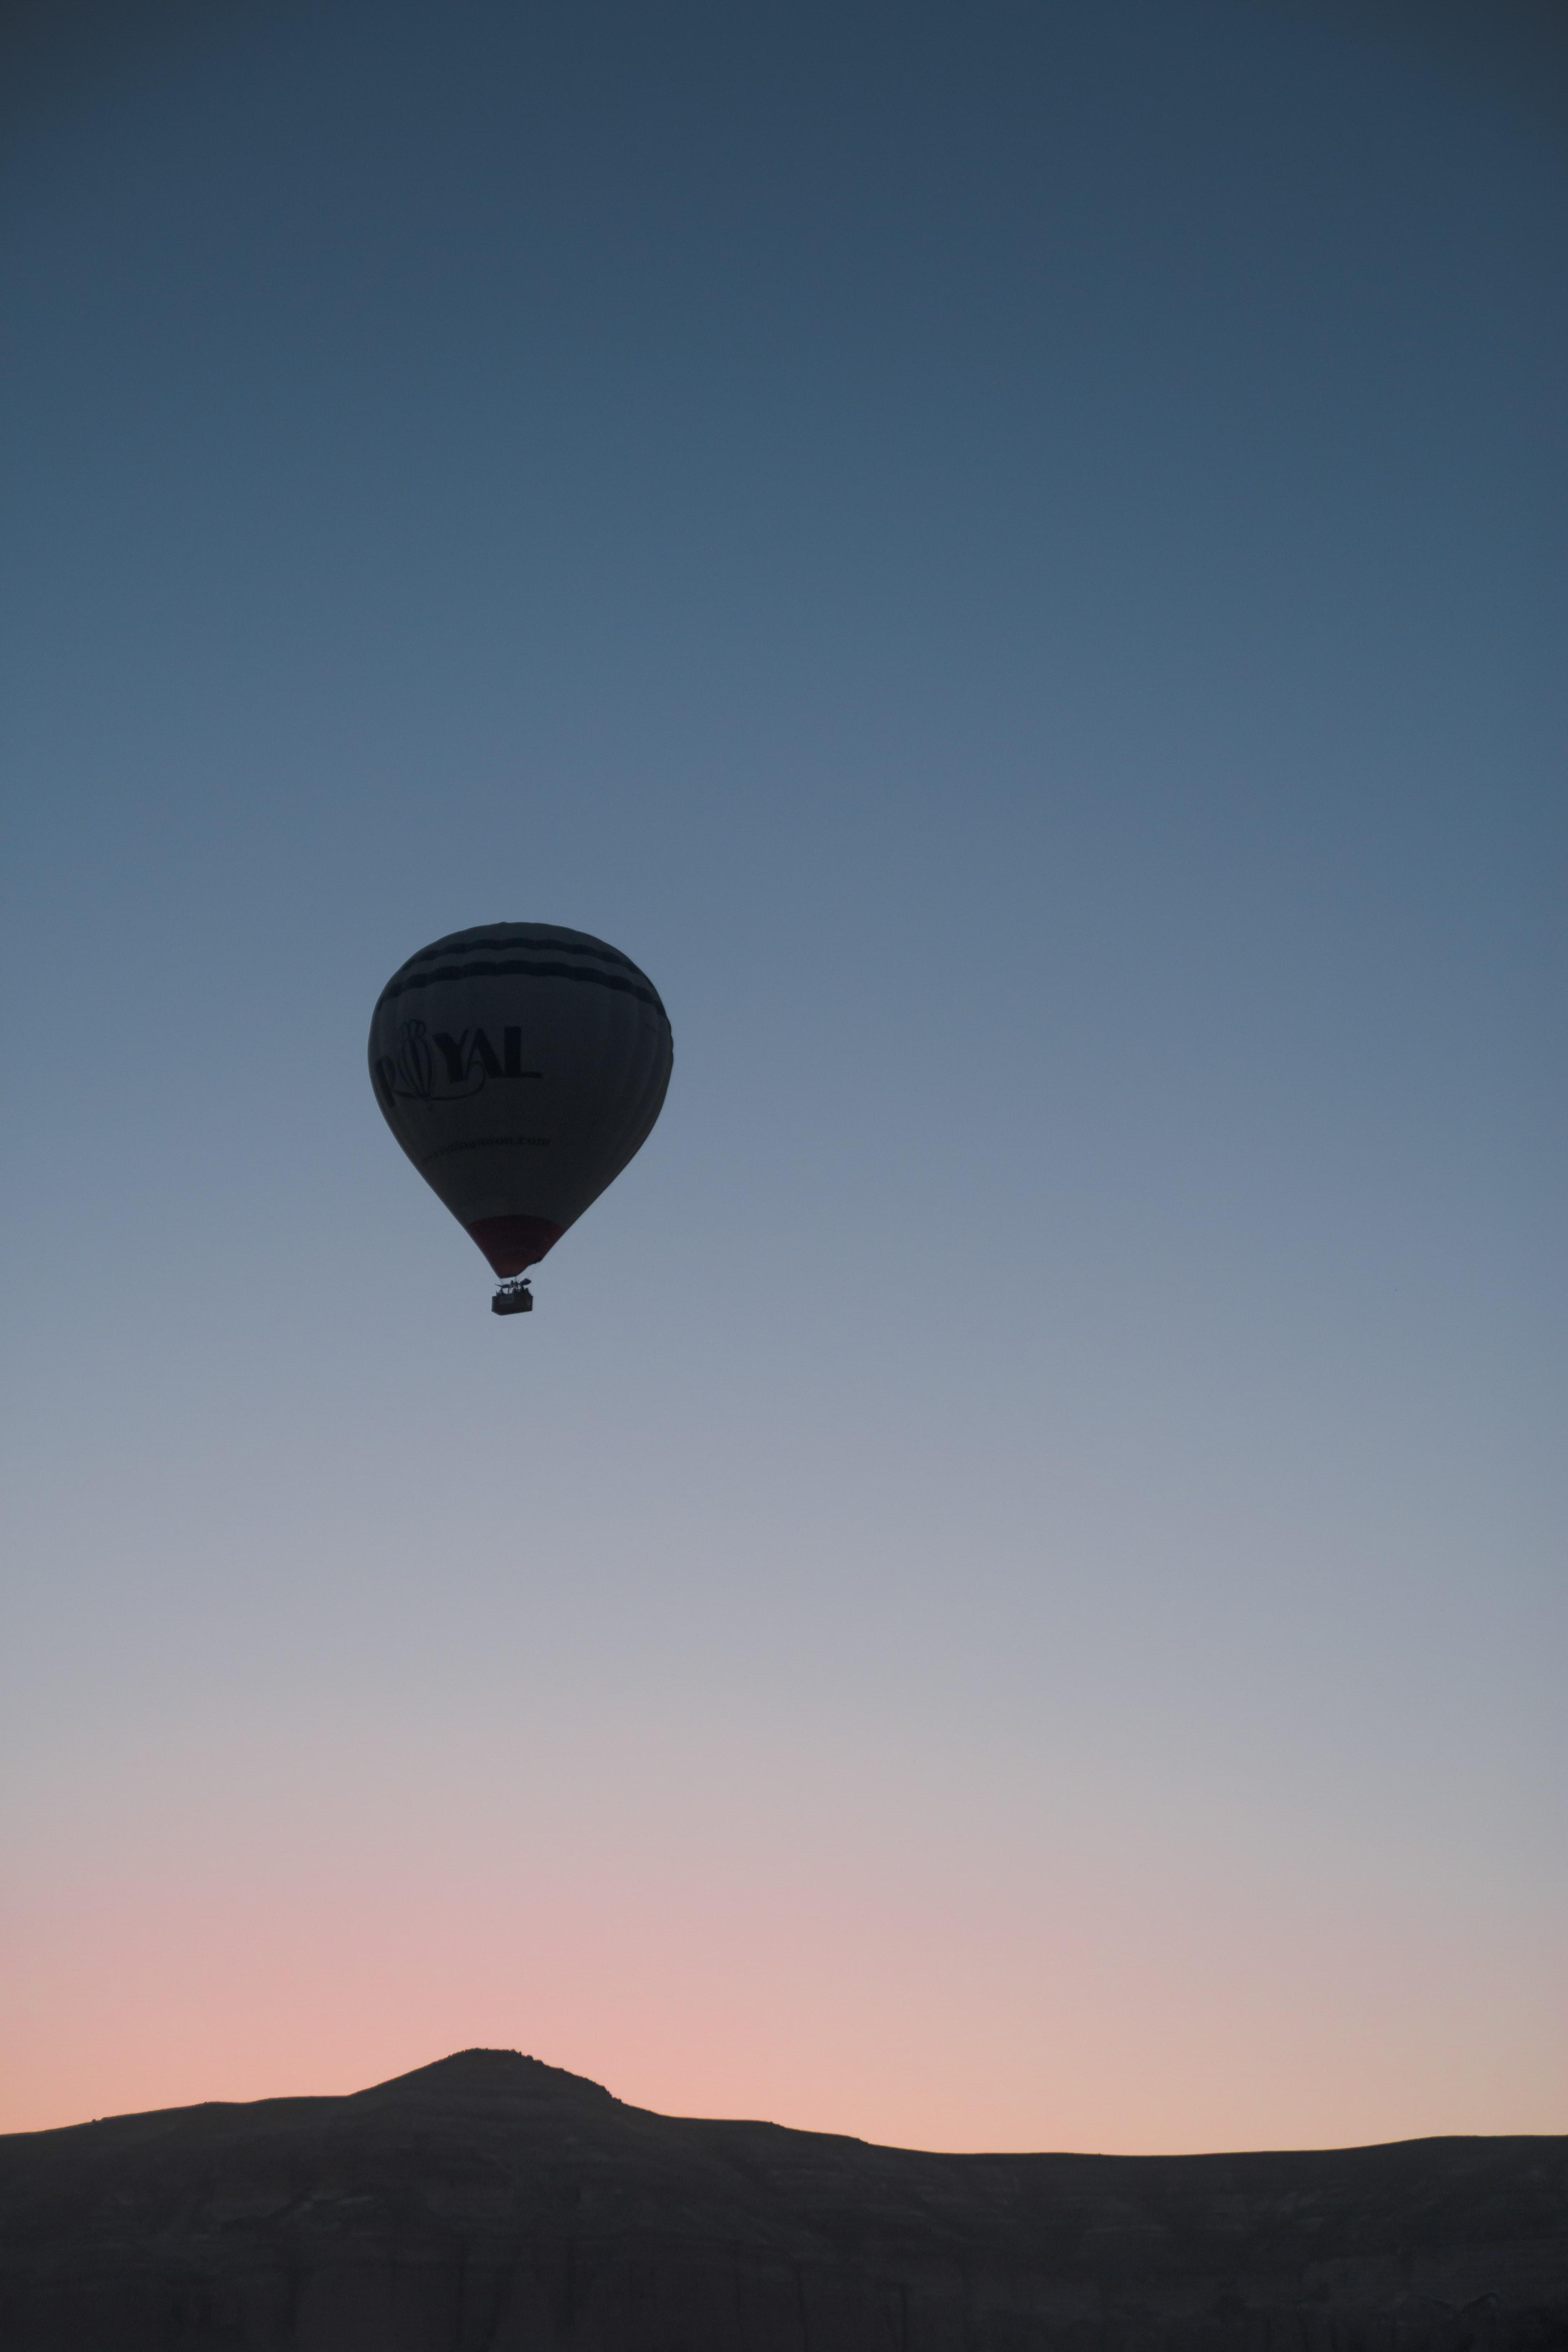hot air ballon: (367, 920, 674, 1316)
